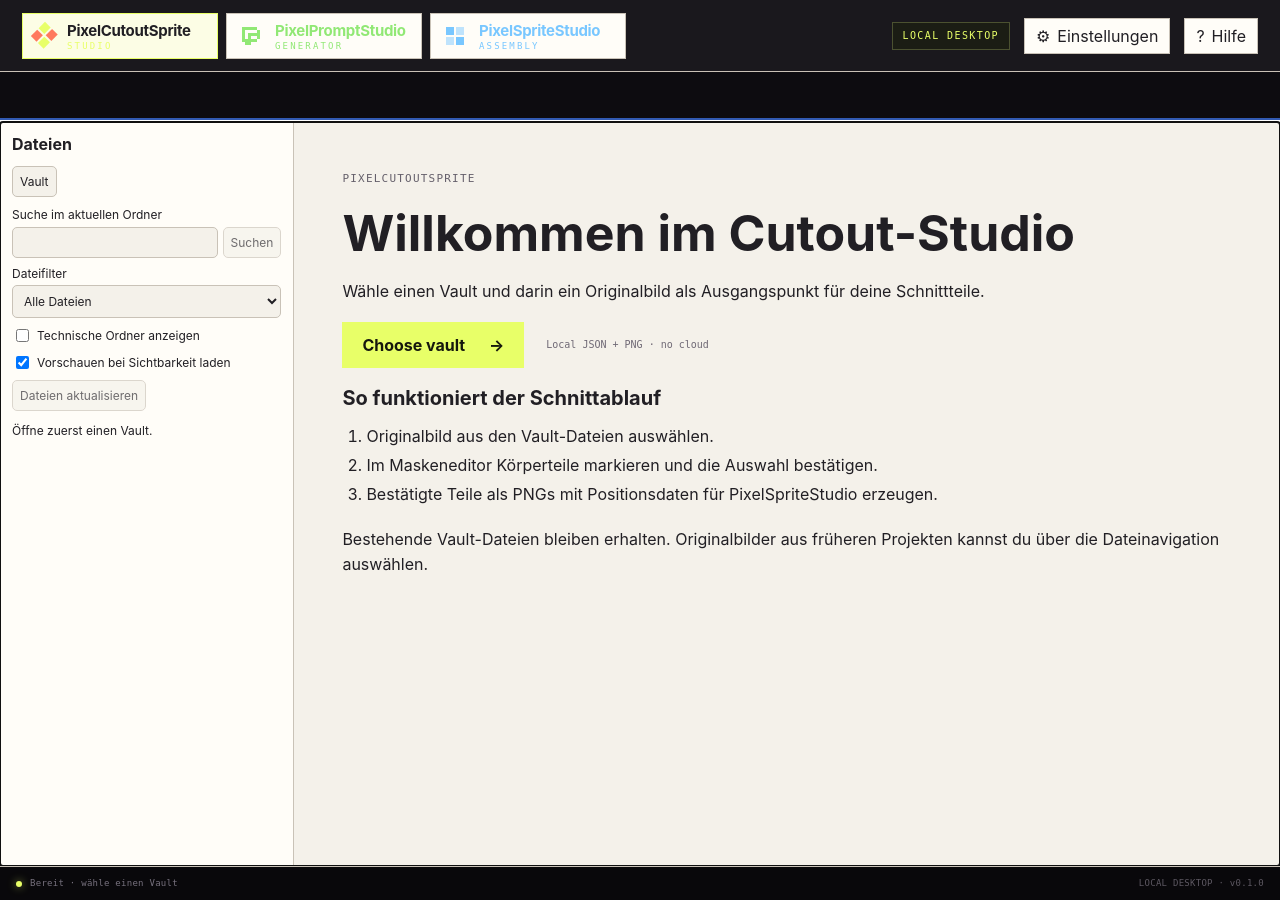
Test: shared studio lifecycle after P37 › retains the current vault and releases the new session when closing the previous vault fails
Click the button "Choose vault →" at (433, 345), box [342,322,524,368]
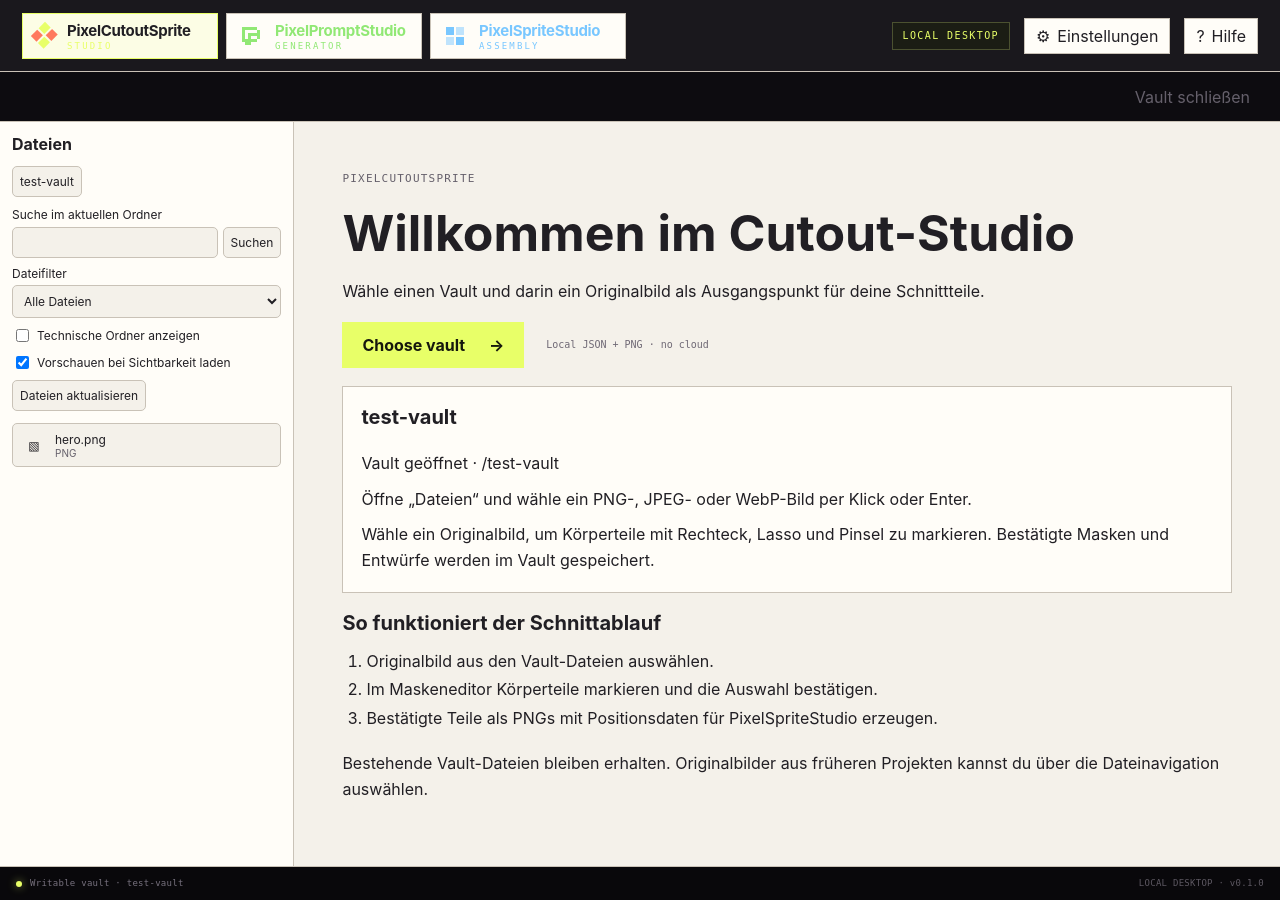
Now the list item "▧ hero.png PNG" is shown, box [12,423,281,467]
Click the button "Choose vault →" at (433, 345), box [342,322,524,368]
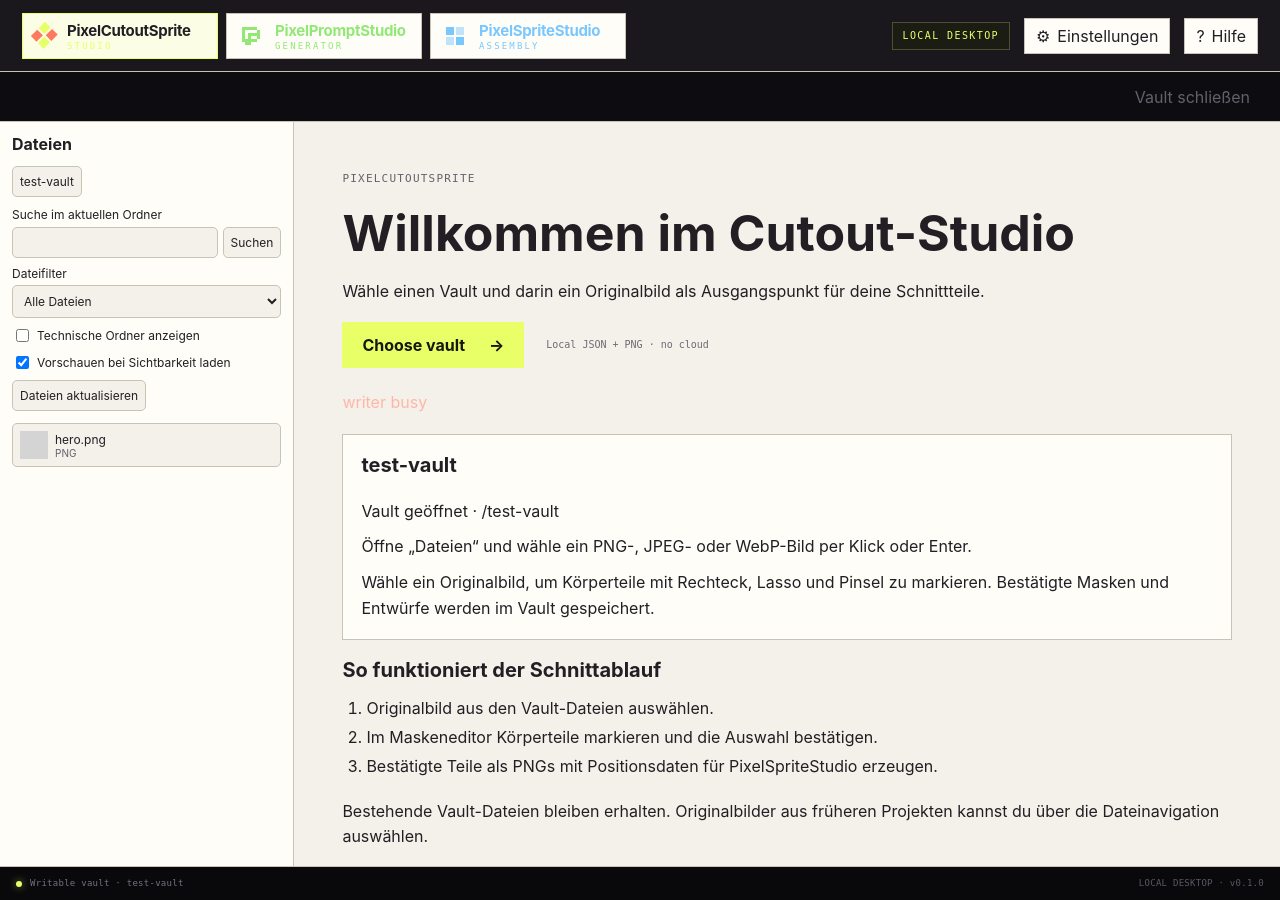
Now the element named "Cutout-Arbeitsbereich" shows "/test-vault", box [482,501,559,521]
Now the text "writer busy" is shown, box [342,392,427,412]
